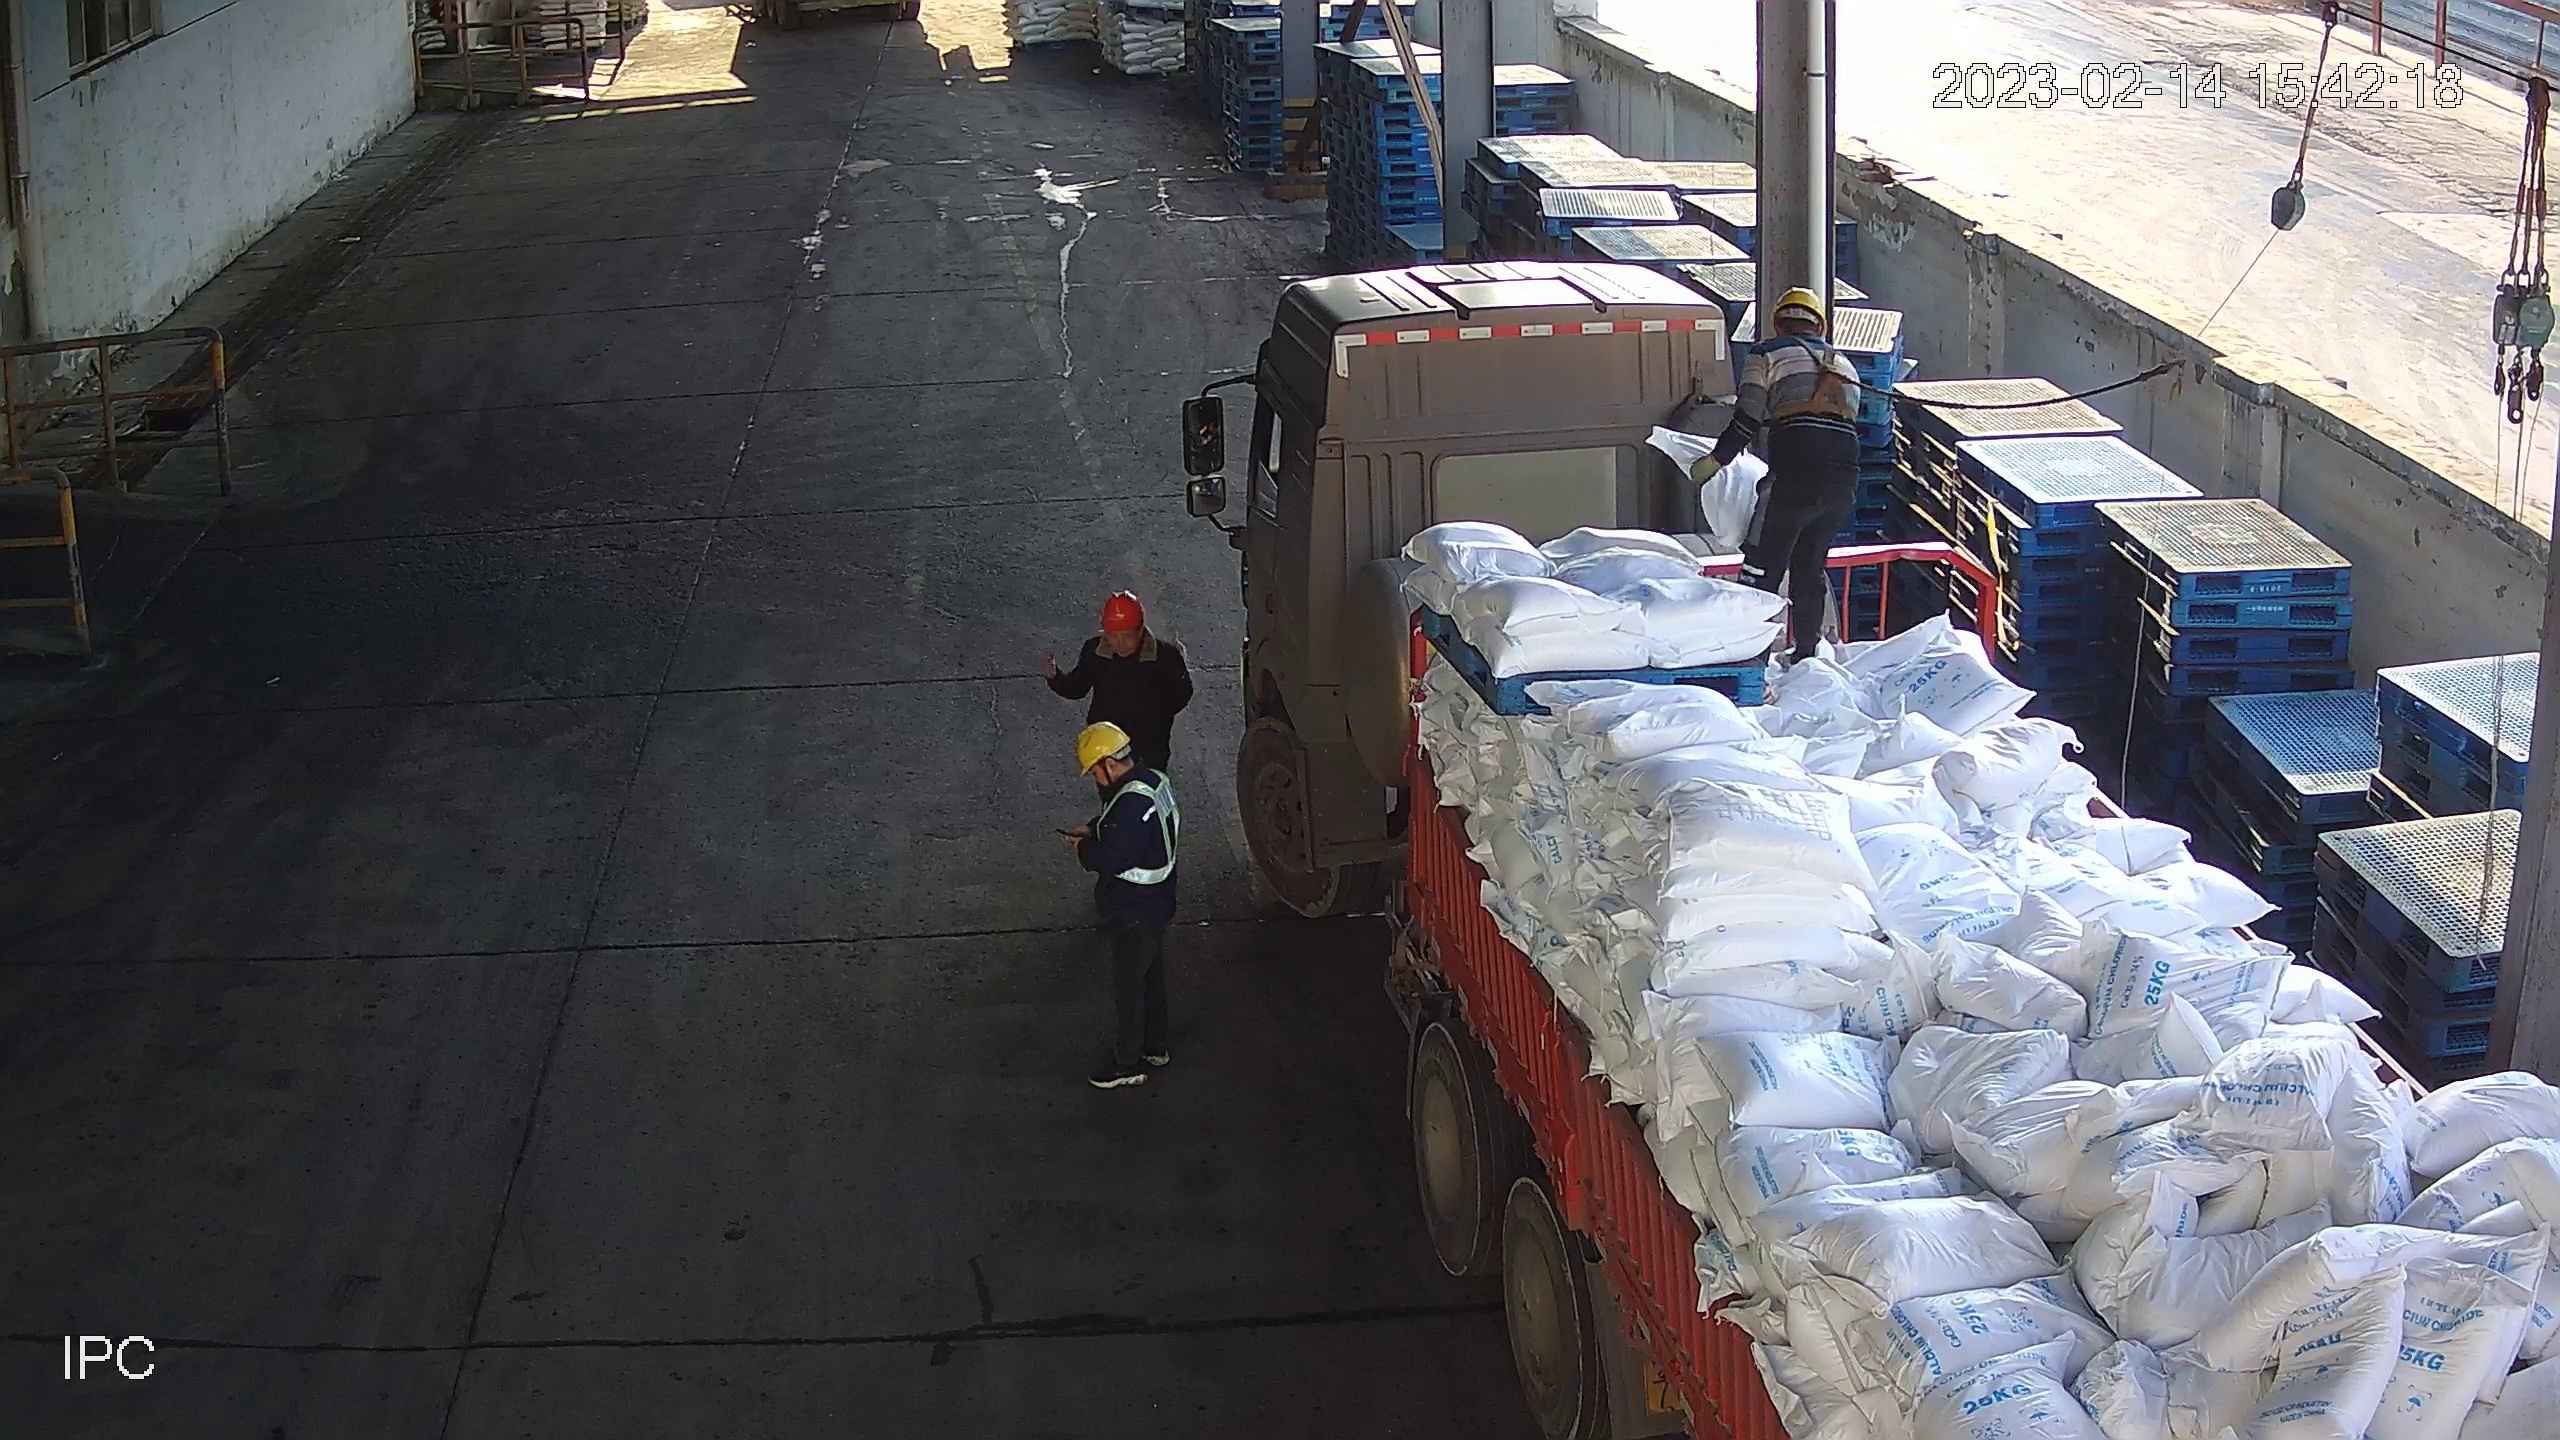head: (1705, 284, 1862, 399), (1057, 725, 1175, 849), (1070, 597, 1196, 688)
helmet: (1066, 717, 1136, 773), (1775, 280, 1827, 334), (1090, 593, 1148, 636)
people: (1704, 278, 1866, 651), (1053, 721, 1197, 1087)
truck: (1194, 258, 2560, 1440)
